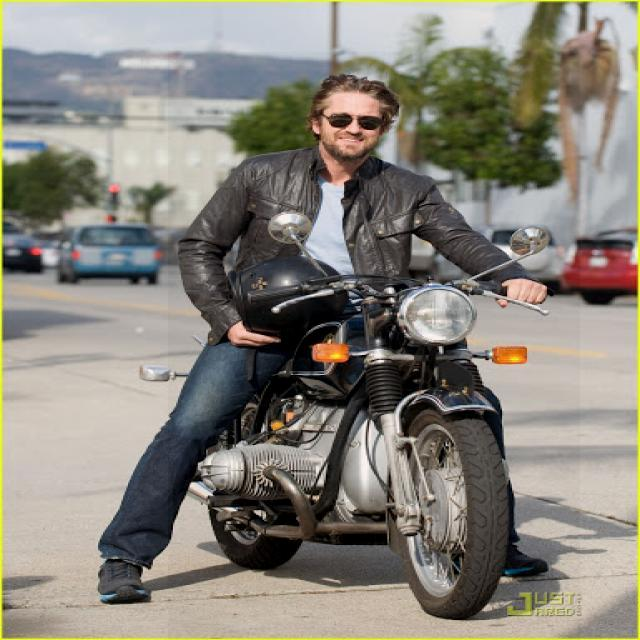No_Helmet: (168, 52, 580, 640)
